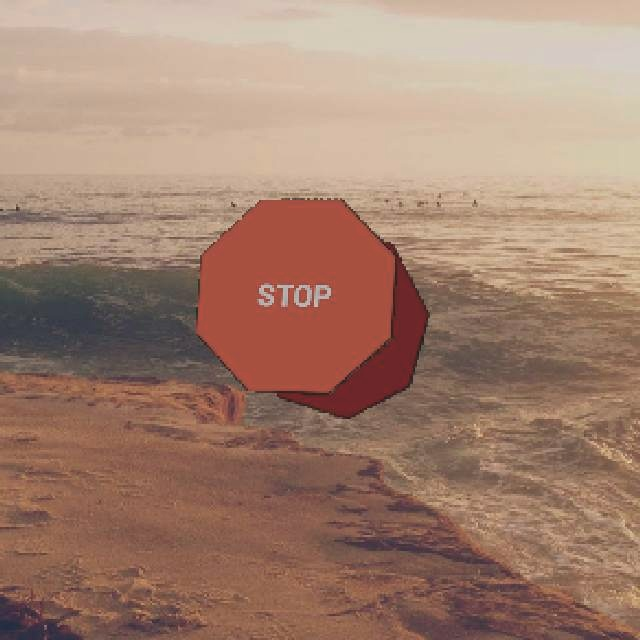FAKE_STOP: (235, 215, 428, 418)
STOP: (193, 197, 396, 393)
